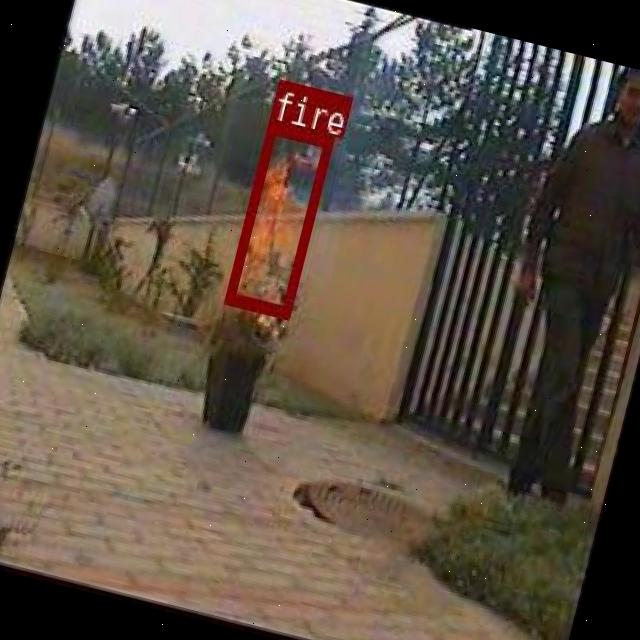fire: (224, 120, 333, 316)
